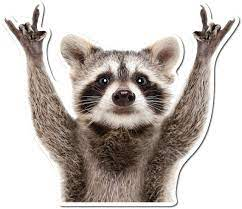raccoon: (4, 9, 231, 206)
